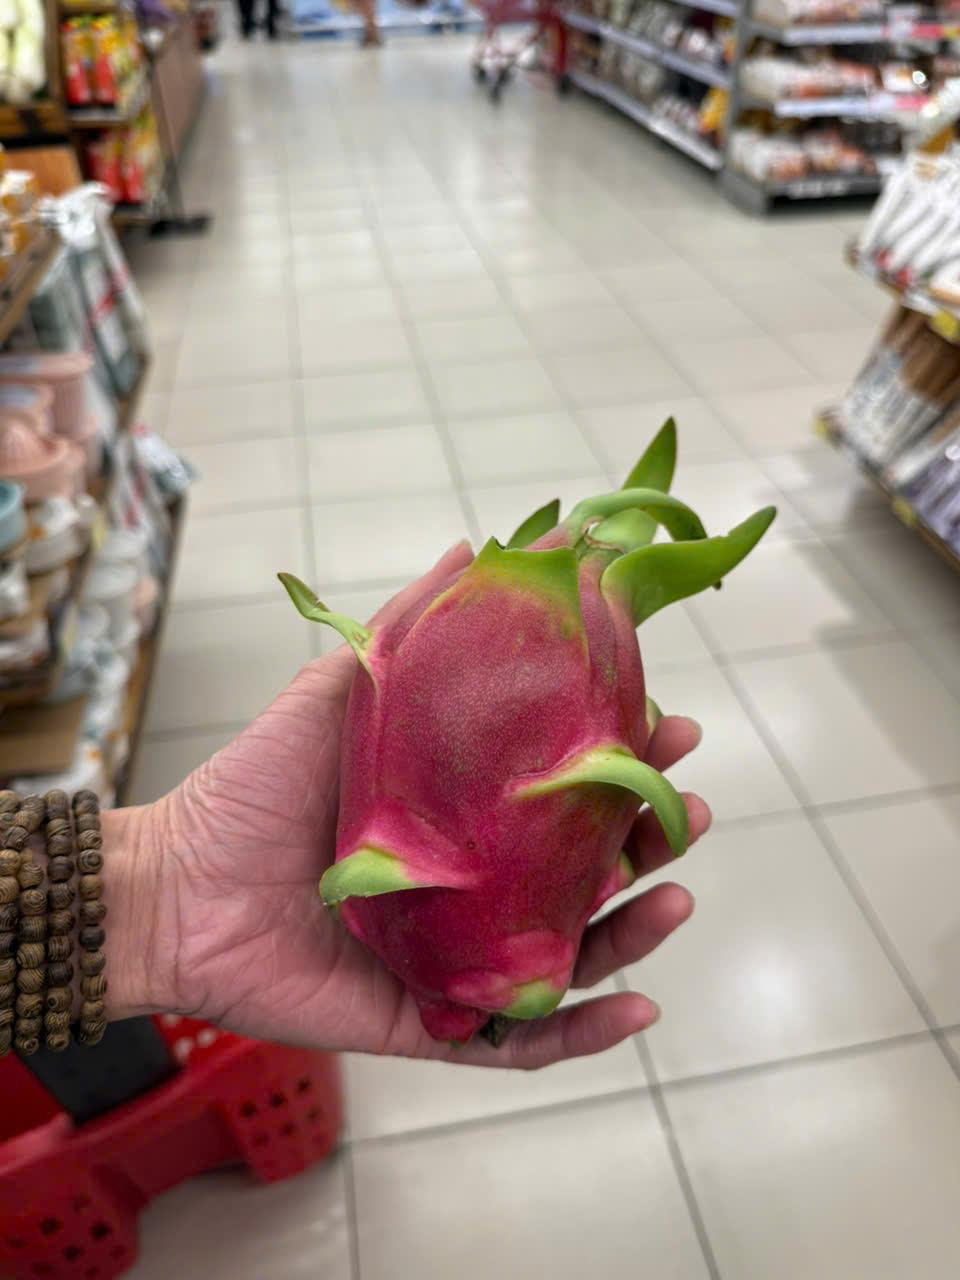dragon fruit: (280, 415, 782, 1040)
